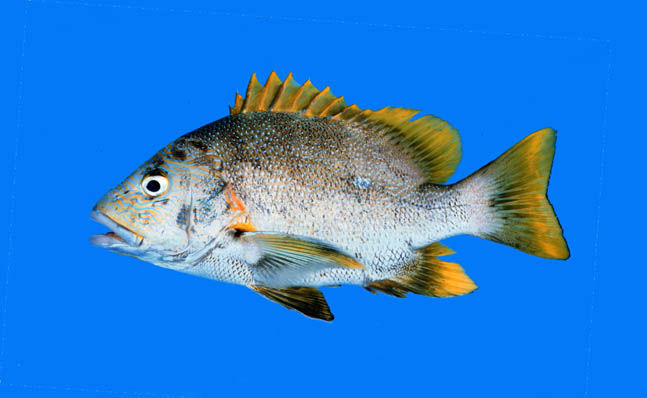fish: (88, 70, 574, 324)
